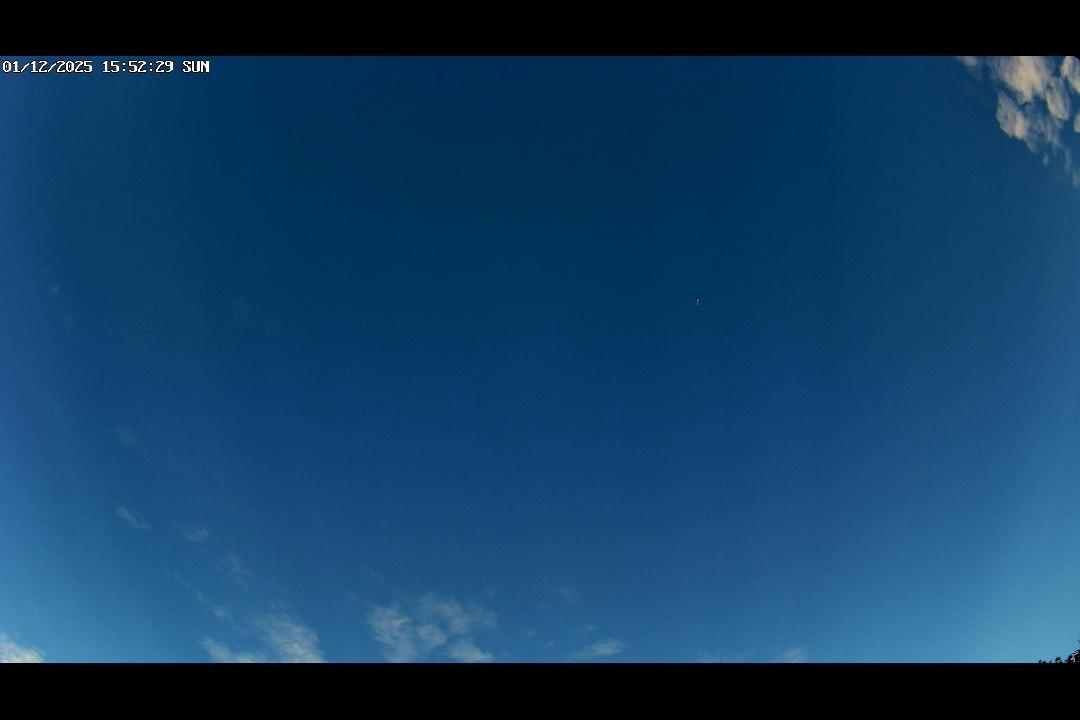Plane: (690, 293, 707, 309)
